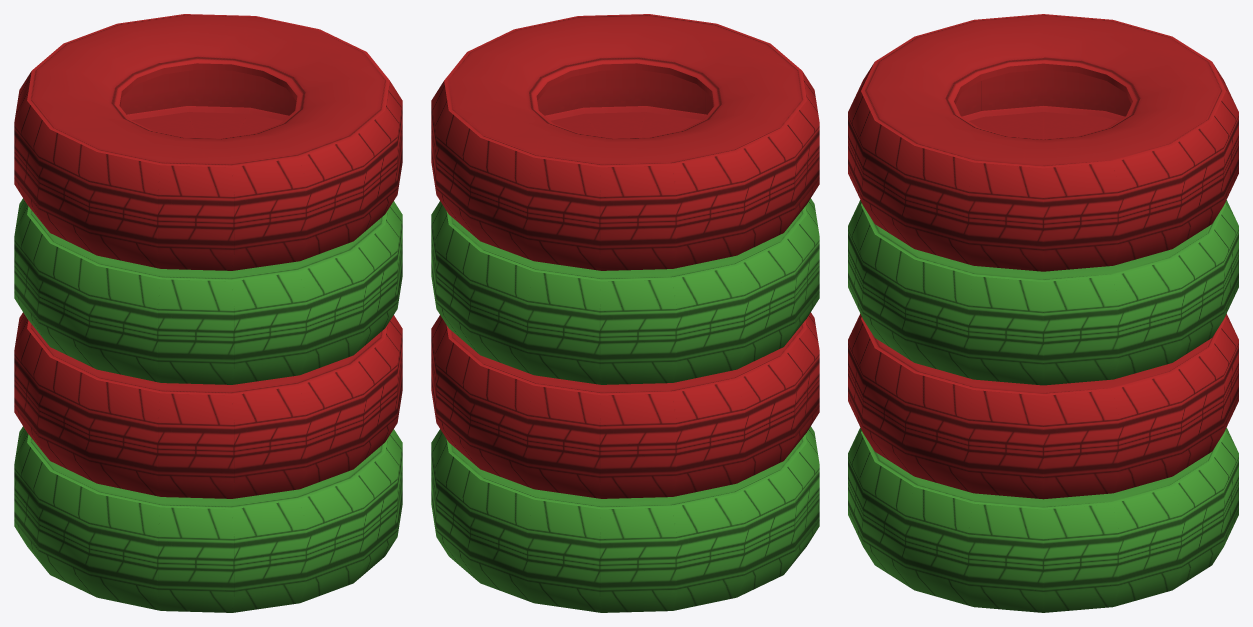
File: tire.FBX
3 renders of one model, left to right at view 1: azimuth 30°, elevation 25°; view 2: azimuth 150°, elevation 25°; view 3: azimuth 270°, elevation 25°, orthographic.
Visible parts, largest first — view 1: Tyre.003, Tyre.001, Tyre, Tyre.002; view 2: Tyre.003, Tyre.001, Tyre, Tyre.002; view 3: Tyre.003, Tyre, Tyre.002, Tyre.001.
Part boxes in pixels (x1,y1,x2,y2): Tyre.003: (14,14,402,270); Tyre.001: (14,312,402,498); Tyre: (14,426,402,612); Tyre.002: (14,198,402,384); Tyre.003: (431,14,819,270); Tyre.001: (431,312,819,498); Tyre: (431,426,819,612); Tyre.002: (431,198,819,384); Tyre.003: (848,14,1238,271); Tyre: (848,427,1238,612); Tyre.002: (848,200,1238,385); Tyre.001: (848,314,1238,499).
Size of the model in its own units: 171 by 171 by 220.
Materials: 4 (4 with a texture image).
